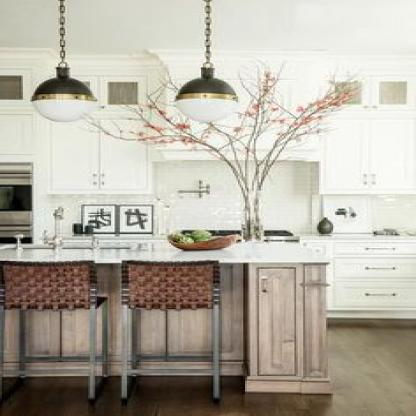chair: (0, 243, 109, 416), (113, 253, 226, 416)
light: (21, 0, 105, 131), (164, 0, 243, 134)
table: (0, 237, 335, 403)
